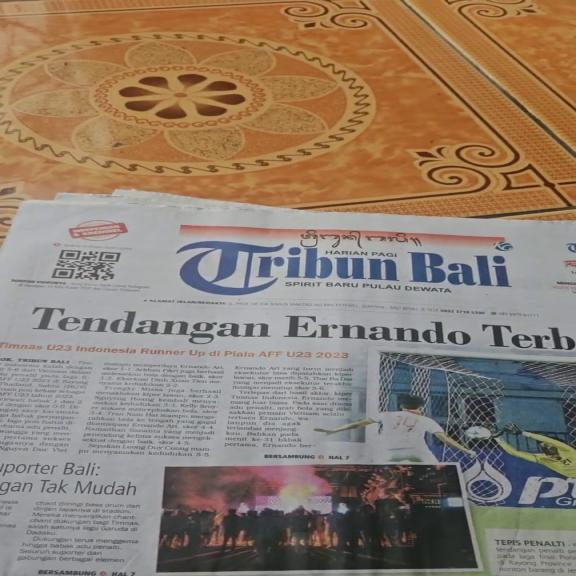Kertas: (0, 226, 568, 573)
